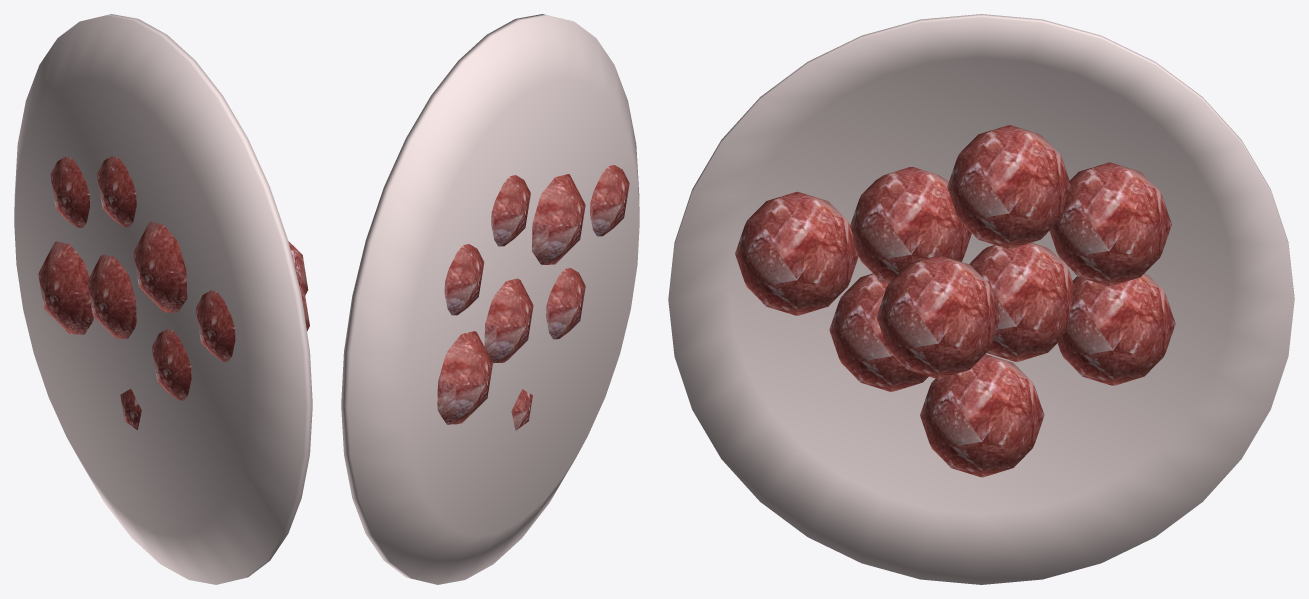
Rendered from MetalPlate.fbx.
3 renders of one model, left to right at view 1: azimuth 30°, elevation 25°; view 2: azimuth 150°, elevation 25°; view 3: azimuth 270°, elevation 25°, orthographic. The views are drawn at different scales.
Visible parts, largest first — view 1: Cube; view 2: Cube; view 3: Cube.
Part boxes in pixels (x1=…): Cube: x1=14, y1=14, x2=312, y2=584; Cube: x1=341, y1=14, x2=639, y2=584; Cube: x1=668, y1=14, x2=1294, y2=584.
Size of the model in its own units: 0.2193 by 0.6329 by 0.6329.
